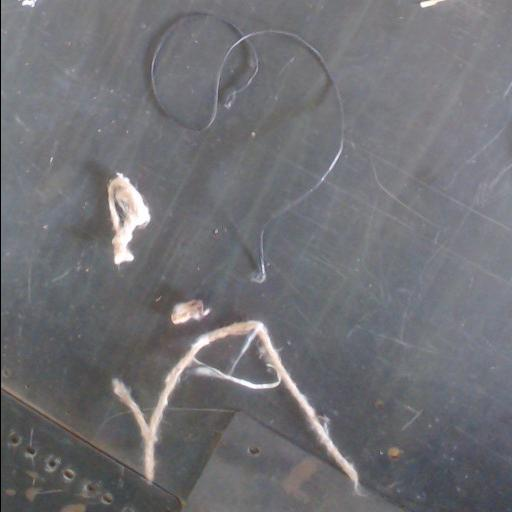conveyor belt: (1, 0, 512, 511)
jute: (113, 321, 358, 490), (107, 173, 149, 264)
thread: (204, 17, 344, 216), (148, 12, 212, 115), (190, 355, 280, 388), (228, 330, 256, 374), (253, 229, 265, 281)
